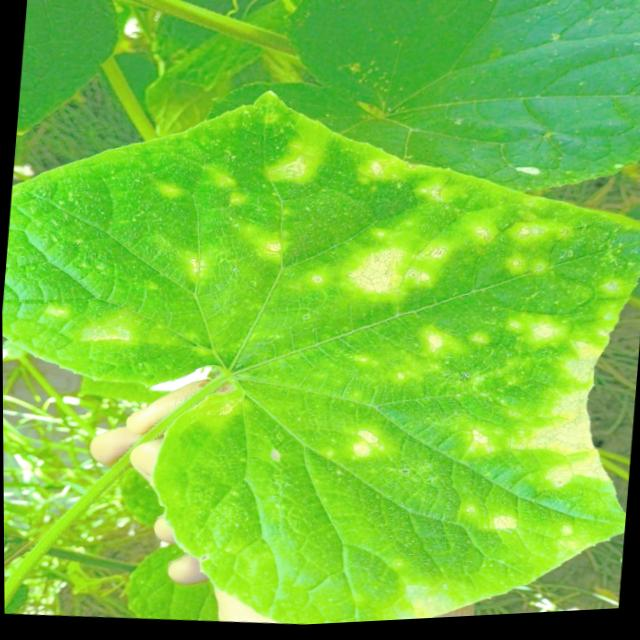Downy-Mildew: (6, 91, 640, 627)
